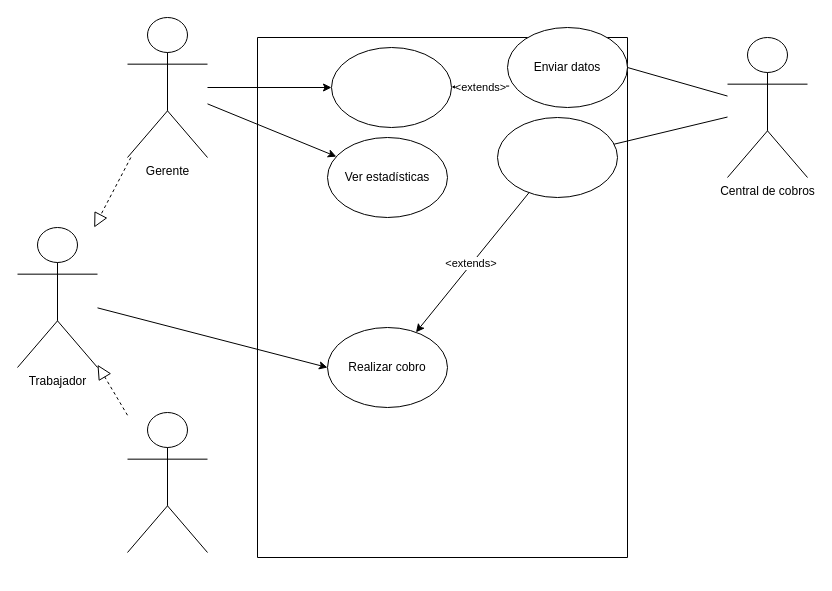
This 832x591 diagram has some shape labels left out. The box of each missing label's shape, as (x1, y1, x2, y2) in pixels:
Empleado: (126, 412, 208, 552)
Recuperar datos: (496, 116, 618, 198)
Registrar cobros: (330, 46, 452, 128)
